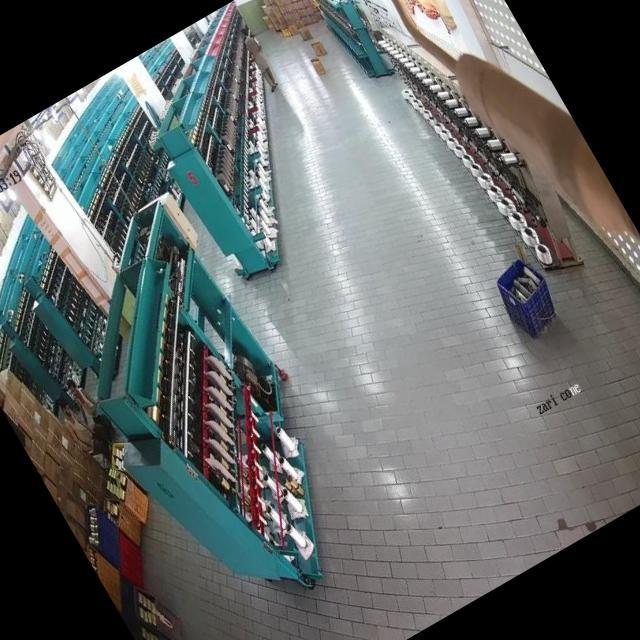person: (54, 388, 118, 467), (58, 365, 118, 444), (234, 20, 284, 91)
